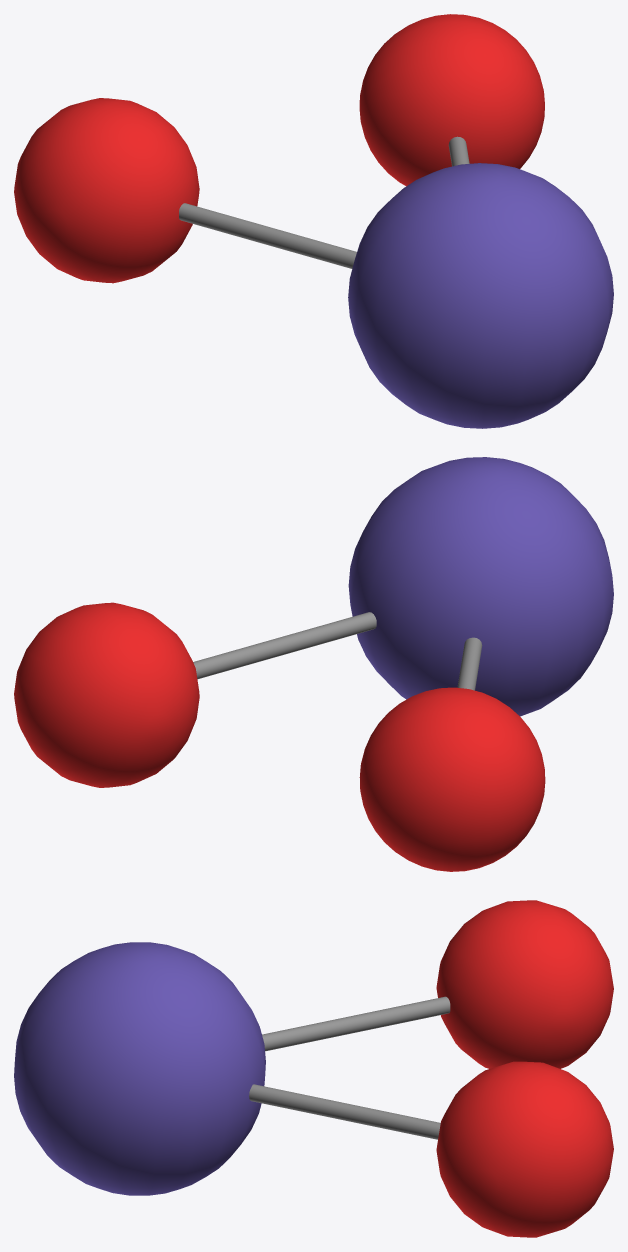
Rendered from MgO2.fbx.
3 renders of one model, top to bottom at view 1: azimuth 30°, elevation 25°; view 2: azimuth 150°, elevation 25°; view 3: azimuth 270°, elevation 25°, orthographic. The views are drawn at different scales.
Parts seen in each view (by area): view 1: MgO2; view 2: MgO2; view 3: MgO2.
Part boxes in pixels (x1,y1,x2,y2): MgO2: [14, 14, 613, 428]; MgO2: [14, 457, 613, 871]; MgO2: [14, 900, 613, 1237].
Size of the model in its own units: 5.82 by 2.65 by 6.25.
